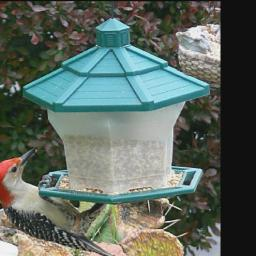Woodpecker: (0, 147, 117, 256)
